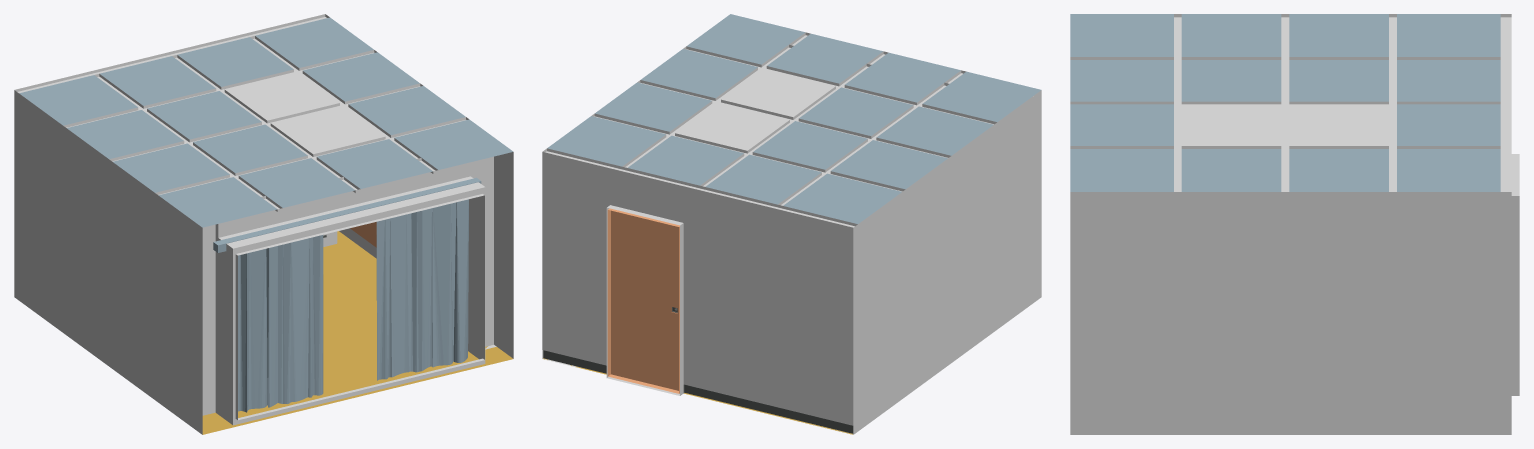
File: hospis_final.fbx
3 renders of one model, left to right at view 1: azimuth 30°, elevation 25°; view 2: azimuth 150°, elevation 25°; view 3: azimuth 270°, elevation 25°, orthographic. The views are drawn at different scales.
Parts seen in each view (by area): view 1: 1roof, back_wall_main, window_wall_curtain, window_wall_main, Floor, front_wall_main, door_wall_main; view 2: 1roof, door_wall_main, back_wall_main, door_wall_door, back_wall_thing; view 3: front_wall_main, 1roof, door_wall_main.
Boxes of the visible parts, x1,y1,x2,y2 form: 1roof: (17,17,513,227); back_wall_main: (14,90,202,434); window_wall_curtain: (213,177,481,412); window_wall_main: (202,156,496,425); Floor: (202,231,512,434); front_wall_main: (325,14,513,358); door_wall_main: (15,14,325,91); 1roof: (545,14,1040,227); door_wall_main: (542,152,853,434); back_wall_main: (853,90,1041,434); door_wall_door: (607,208,679,393); back_wall_thing: (940,232,987,285); front_wall_main: (1070,192,1511,434); 1roof: (1070,14,1511,195); door_wall_main: (1509,154,1519,434).
Size of the model in its own units: 382 by 243 by 407.
